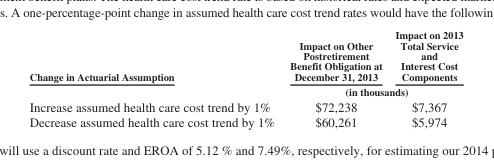table: (28, 28, 462, 128)
table column: (28, 28, 281, 128), (281, 28, 388, 128), (388, 28, 462, 128)
table column header: (28, 28, 462, 98)
table row: (28, 28, 462, 83), (28, 83, 462, 98), (28, 98, 462, 113), (28, 113, 462, 128)
table spanning cell: (28, 28, 281, 98), (281, 83, 462, 98)
